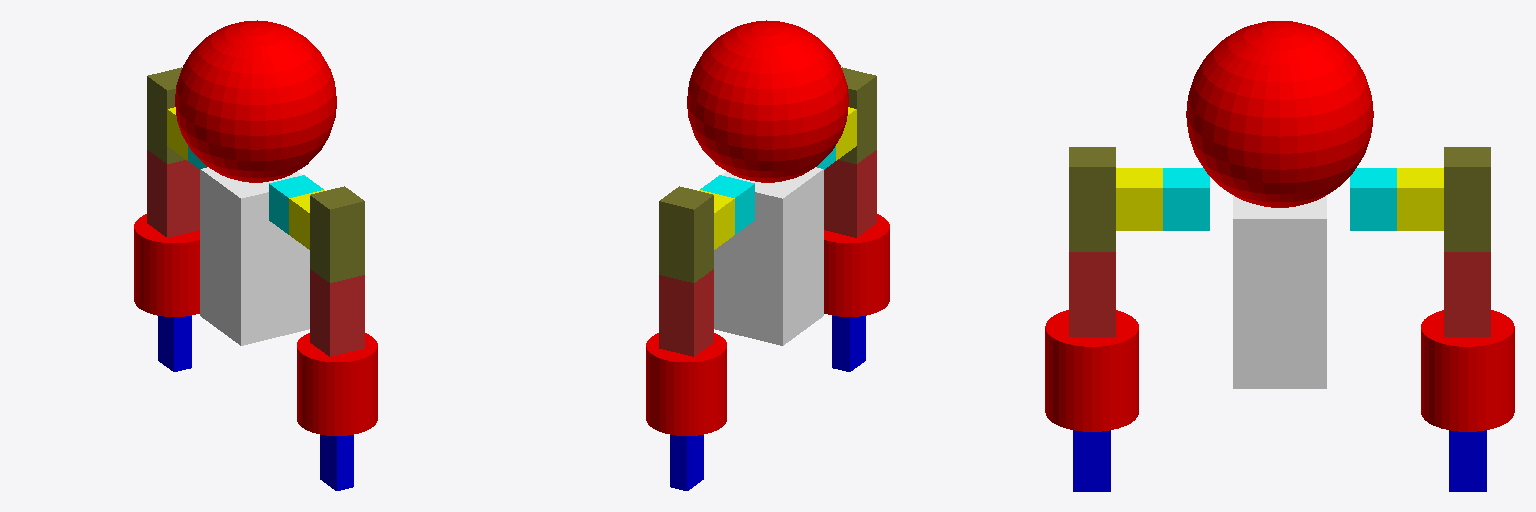
URDF robot description (robot):
<robot name="robot">
  <!-- links -->
  <link name="root">
    <inertial>
      <origin xyz="0 0 0.5" rpy="0 0 0"/>
      <mass value="1"/>
      <inertia ixx="100"  ixy="0"  ixz="0" iyy="100" iyz="0" izz="100" />
    </inertial>
    <visual>
      <origin xyz="0.0 0.0 0.0" rpy="0.0 0.0 0.0" />
      <geometry>
        <box size="0.2 0.2 0.4" />
      </geometry>
      <material name="Cyan">
        <color rgba="1.0 1.0 1.0 1.0"/>
      </material>
    </visual>
    <visual>
      <origin xyz="0.0 0.0 0.4" rpy="0.0 0.0 0.0" />
      <geometry>
        <sphere radius="0.2" />
      </geometry>
      <material name="Red">
        <color rgba="1.0 0.0 0.0 1.0"/>
      </material>
    </visual>
    <collision>
      <origin xyz="0.0 0.0 -0.1" rpy="0.0 0.0 0.0" />
      <geometry>
        <capsule radius="0.2" length="0.2" />
      </geometry>
    </collision>
    <collision>
      <origin xyz="0 0 0.4" rpy="0 0 0"/>
      <geometry>
        <sphere radius="0.2"/>
      </geometry>
    </collision>
  </link>

  <!-- left arm -->
  <link name="l_shoulder1">
    <visual>
      <origin xyz="0.0 0.0 0.0" rpy="0.0 0.0 0.0" />
      <geometry>
        <box size="0.1 0.1 0.1" />
      </geometry>
      <material name="Cyan">
        <color rgba="0 1.0 1.0 1.0"/>
      </material>
    </visual>
  </link>
  <link name="l_shoulder2">
    <visual>
      <origin xyz="0.0 0.0 0.0" rpy="0.0 0.0 0.0" />
      <geometry>
        <box size="0.1 0.1 0.1" />
      </geometry>
      <material name="Cyan">
        <color rgba="1.0 1.0 0.0 1.0"/>
      </material>
    </visual>
  </link>
  <link name="l_shoulder3">
    <visual>
      <origin xyz="0.0 0.0 0.0" rpy="0.0 0.0 0.0" />
      <geometry>
        <box size="0.1 0.1 0.2" />
      </geometry>
      <material name="Cyan">
        <color rgba="0.5 0.5 0.2 1.0"/>
      </material>
    </visual>
  </link>
  <link name="l_elbow1">
    <visual>
      <origin xyz="0.0 0.0 0.0" rpy="0.0 0.0 0.0" />
      <geometry>
        <box size="0.1 0.1 0.2" />
      </geometry>
      <material name="Cyan">
        <color rgba="0.8 0.2 0.2 1.0"/>
      </material>
    </visual>
  </link>
  <link name="l_wrist1">
    <visual>
      <origin xyz="0.0 0.0 0.0" rpy="0.0 0.0 0.0" />
      <geometry>
        <cylinder radius="0.1" length="0.2" />
      </geometry>
      <material name="Cyan">
        <color rgba="1.0 0.0 0.0 1.0"/>
      </material>
    </visual>
  </link>
  <link name="l_wrist2">
    <visual>
      <origin xyz="0.0 0.0 0.0" rpy="0.0 0.0 0.0" />
      <geometry>
        <box size="0.05 0.08 0.15" />
      </geometry>
      <material name="Cyan">
        <color rgba="0.0 0.0 1.0 1.0"/>
      </material>
    </visual>
  </link>

  <!-- right arm -->
  <link name="r_shoulder1">
    <visual>
      <origin xyz="0.0 0.0 0.0" rpy="0.0 0.0 0.0" />
      <geometry>
        <box size="0.1 0.1 0.1" />
      </geometry>
      <material name="Cyan">
        <color rgba="0 1.0 1.0 1.0"/>
      </material>
    </visual>
  </link>
  <link name="r_shoulder2">
    <visual>
      <origin xyz="0.0 0.0 0.0" rpy="0.0 0.0 0.0" />
      <geometry>
        <box size="0.1 0.1 0.1" />
      </geometry>
      <material name="Cyan">
        <color rgba="1.0 1.0 0.0 1.0"/>
      </material>
    </visual>
  </link>
  <link name="r_shoulder3">
    <visual>
      <origin xyz="0.0 0.0 0.0" rpy="0.0 0.0 0.0" />
      <geometry>
        <box size="0.1 0.1 0.2" />
      </geometry>
      <material name="Cyan">
        <color rgba="0.5 0.5 0.2 1.0"/>
      </material>
    </visual>
  </link>
  <link name="r_elbow1">
    <visual>
      <origin xyz="0.0 0.0 0.0" rpy="0.0 0.0 0.0" />
      <geometry>
        <box size="0.1 0.1 0.2" />
      </geometry>
      <material name="Cyan">
        <color rgba="0.8 0.2 0.2 1.0"/>
      </material>
    </visual>
  </link>
  <link name="r_wrist1">
    <visual>
      <origin xyz="0.0 0.0 0.0" rpy="0.0 0.0 0.0" />
      <geometry>
        <cylinder radius="0.1" length="0.2" />
      </geometry>
      <material name="Cyan">
        <color rgba="1.0 0.0 0.0 1.0"/>
      </material>
    </visual>
  </link>
  <link name="r_wrist2">
    <visual>
      <origin xyz="0.0 0.0 0.0" rpy="0.0 0.0 0.0" />
      <geometry>
        <box size="0.05 0.08 0.15" />
      </geometry>
      <material name="Cyan">
        <color rgba="0.0 0.0 1.0 1.0"/>
      </material>
    </visual>
  </link>


  <!-- joints -->
  <!-- left arm -->
  <joint name="l_shoulder_yaw" type="revolute">
    <origin xyz="0.0 0.2 0.2" />
    <parent link="root" />
    <child link="l_shoulder1" />
    <axis xyz="0 0 1" />
    <limit lower="-1" upper="1.0" effort="0" velocity="1.0"/>
  </joint>
  <joint name="l_shoulder_pitch" type="revolute">
    <origin xyz="0.0 0.1 0.0" />
    <parent link="l_shoulder1" />
    <child link="l_shoulder2" />
    <axis xyz="0 1 0" />
    <limit lower="-1" upper="1.0" effort="0" velocity="1.0"/>
  </joint>
  <joint name="l_shoulder_roll" type="revolute">
    <origin xyz="0.0 0.1 0.0" />
    <parent link="l_shoulder2" />
    <child link="l_shoulder3" />
    <axis xyz="1 0 0" />
    <limit lower="-2" upper="1.0" effort="0" velocity="1.0"/>
  </joint>
  <joint name="l_elbow_pitch" type="revolute">
    <origin xyz="0.0 0.0 -0.2" />
    <parent link="l_shoulder3" />
    <child link="l_elbow1" />
    <axis xyz="0 1 0" />
    <limit lower="-2" upper="1.0" effort="0" velocity="1.0"/>
  </joint>
  <joint name="l_wrist_yaw" type="revolute">
    <origin xyz="0.0 0.0 -0.2" />
    <parent link="l_elbow1" />
    <child link="l_wrist1" />
    <axis xyz="0 0 1" />
    <limit lower="-2" upper="1.0" effort="0" velocity="1.0"/>
  </joint>
  <joint name="l_wrist_pitch" type="revolute">
    <origin xyz="0.0 0.0 -0.2" />
    <parent link="l_wrist1" />
    <child link="l_wrist2" />
    <axis xyz="0 1 0" />
    <limit lower="-2" upper="1.0" effort="0" velocity="1.0"/>
  </joint>

  <!-- right arm -->
  <joint name="r_shoulder_yaw" type="revolute">
    <origin xyz="0.0 -0.2 0.2" />
    <parent link="root" />
    <child link="r_shoulder1" />
    <axis xyz="0 0 1" />
    <limit lower="-1" upper="1.0" effort="0" velocity="1.0"/>
  </joint>
  <joint name="r_shoulder_pitch" type="revolute">
    <origin xyz="0.0 -0.1 0.0" />
    <parent link="r_shoulder1" />
    <child link="r_shoulder2" />
    <axis xyz="0 1 0" />
    <limit lower="-1" upper="1.0" effort="0" velocity="1.0"/>
  </joint>
  <joint name="r_shoulder_roll" type="revolute">
    <origin xyz="0.0 -0.1 0.0" />
    <parent link="r_shoulder2" />
    <child link="r_shoulder3" />
    <axis xyz="1 0 0" />
    <limit lower="-2" upper="1.0" effort="0" velocity="1.0"/>
  </joint>
  <joint name="r_elbow_pitch" type="revolute">
    <origin xyz="0.0 0.0 -0.2" />
    <parent link="r_shoulder3" />
    <child link="r_elbow1" />
    <axis xyz="0 1 0" />
    <limit lower="-2" upper="1.0" effort="0" velocity="1.0"/>
  </joint>
  <joint name="r_wrist_yaw" type="revolute">
    <origin xyz="0.0 0.0 -0.2" />
    <parent link="r_elbow1" />
    <child link="r_wrist1" />
    <axis xyz="0 0 1" />
    <limit lower="-2" upper="1.0" effort="0" velocity="1.0"/>
  </joint>
  <joint name="r_wrist_pitch" type="revolute">
    <origin xyz="0.0 0.0 -0.2" />
    <parent link="r_wrist1" />
    <child link="r_wrist2" />
    <axis xyz="0 1 0" />
    <limit lower="-2" upper="1.0" effort="0" velocity="1.0"/>
  </joint>
</robot>

--- Render facts (derived) ---
Views: 3 orthographic renders of the robot side by side, from view 1: azimuth 30°, elevation 25°; view 2: azimuth 150°, elevation 25°; view 3: azimuth 270°, elevation 25°.
Model robot with 13 links and 12 joints (12 revolute), rooted at root, posed every joint at zero.
Links seen in each view (by area): view 1: root, r_wrist1, l_wrist1, r_shoulder3, r_elbow1, l_elbow1, l_shoulder3, l_wrist2, r_wrist2, r_shoulder1, r_shoulder2, l_shoulder2; view 2: root, l_wrist1, r_wrist1, l_shoulder3, l_elbow1, r_elbow1, r_shoulder3, r_wrist2, l_wrist2, l_shoulder1, l_shoulder2, r_shoulder2; view 3: root, l_wrist1, r_wrist1, l_shoulder3, r_shoulder3, l_elbow1, r_elbow1, l_shoulder2, r_shoulder2, l_shoulder1, r_shoulder1, l_wrist2 (+1 smaller).
Link boxes in pixels (x1=…): root: x1=175, y1=20, x2=336, y2=345; r_wrist1: x1=297, y1=333, x2=377, y2=435; l_wrist1: x1=134, y1=214, x2=199, y2=316; r_shoulder3: x1=310, y1=186, x2=364, y2=282; r_elbow1: x1=310, y1=269, x2=364, y2=356; l_elbow1: x1=147, y1=150, x2=199, y2=237; l_shoulder3: x1=147, y1=67, x2=185, y2=163; l_wrist2: x1=158, y1=316, x2=191, y2=371; r_wrist2: x1=320, y1=435, x2=353, y2=490; r_shoulder1: x1=269, y1=175, x2=323, y2=234; r_shoulder2: x1=289, y1=190, x2=324, y2=249; l_shoulder2: x1=167, y1=107, x2=187, y2=160; root: x1=687, y1=20, x2=848, y2=345; l_wrist1: x1=646, y1=333, x2=726, y2=435; r_wrist1: x1=824, y1=214, x2=889, y2=316; l_shoulder3: x1=659, y1=186, x2=713, y2=282; l_elbow1: x1=659, y1=269, x2=713, y2=356; r_elbow1: x1=824, y1=150, x2=876, y2=237; r_shoulder3: x1=838, y1=67, x2=876, y2=163; r_wrist2: x1=832, y1=316, x2=865, y2=371; l_wrist2: x1=670, y1=435, x2=703, y2=490; l_shoulder1: x1=700, y1=175, x2=754, y2=234; l_shoulder2: x1=699, y1=190, x2=734, y2=249; r_shoulder2: x1=836, y1=107, x2=856, y2=160; root: x1=1186, y1=21, x2=1373, y2=388; l_wrist1: x1=1421, y1=310, x2=1514, y2=431; r_wrist1: x1=1045, y1=310, x2=1138, y2=431; l_shoulder3: x1=1444, y1=147, x2=1490, y2=251; r_shoulder3: x1=1069, y1=147, x2=1115, y2=251; l_elbow1: x1=1444, y1=252, x2=1490, y2=336; r_elbow1: x1=1069, y1=252, x2=1115, y2=336; l_shoulder2: x1=1397, y1=168, x2=1443, y2=230; r_shoulder2: x1=1116, y1=168, x2=1162, y2=230; l_shoulder1: x1=1350, y1=168, x2=1396, y2=230; r_shoulder1: x1=1163, y1=168, x2=1209, y2=230; l_wrist2: x1=1449, y1=430, x2=1486, y2=491.
Size in the robot's own frame: 0.4 by 1 by 1.07 metres.
Geometry: primitives only (box / cylinder / sphere), no mesh files.